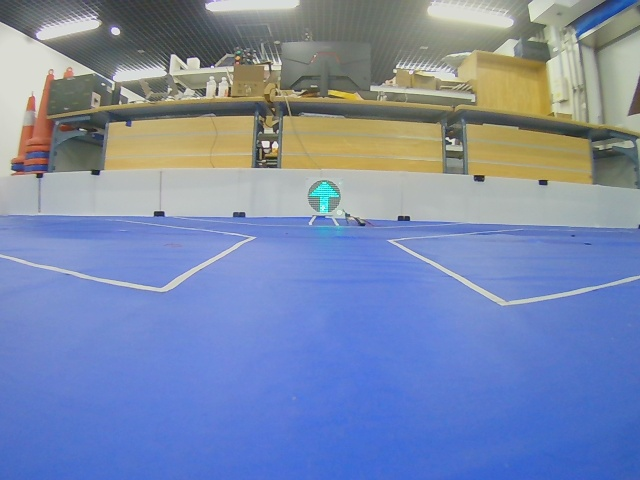straight_green: (308, 180, 341, 214)
